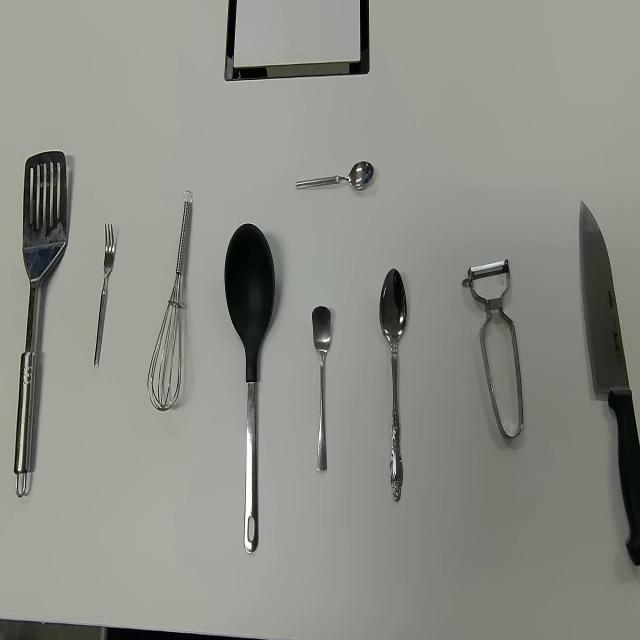Desert-Spoon: (379, 266, 408, 502)
Dinner-Fork: (93, 222, 116, 370)
Kitchen-Knife: (578, 197, 640, 567)
Peeler: (462, 258, 524, 438)
Serving-Spoon: (12, 146, 66, 497), (222, 221, 276, 557)
Tea-Spoon: (311, 303, 332, 473), (294, 160, 374, 194)
Whisk: (146, 188, 193, 412)
